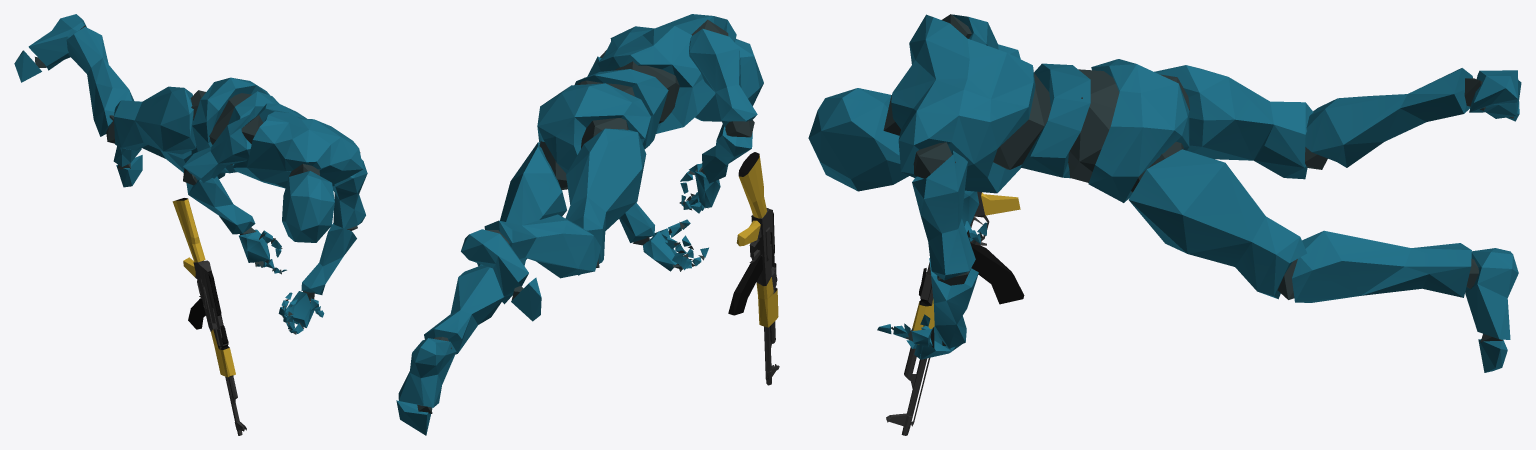
Rendered from EnemyDying_000026.obj.
3 views of the same model, side by side, from view 1: azimuth 30°, elevation 25°; view 2: azimuth 150°, elevation 25°; view 3: azimuth 270°, elevation 25° (orthographic). The views are drawn at different scales.
Visible parts, largest first — view 1: Alpha_Surface, AK-47_Cube, Alpha_Joints; view 2: Alpha_Surface, AK-47_Cube, Alpha_Joints; view 3: Alpha_Surface, Alpha_Joints, AK-47_Cube.
Boxes of the visible parts, x1,y1,x2,y2 form: Alpha_Surface: [14, 14, 367, 333]; AK-47_Cube: [172, 198, 246, 435]; Alpha_Joints: [35, 25, 360, 334]; Alpha_Surface: [396, 14, 763, 435]; AK-47_Cube: [728, 152, 779, 385]; Alpha_Joints: [417, 19, 754, 413]; Alpha_Surface: [808, 14, 1521, 372]; Alpha_Joints: [883, 14, 1513, 360]; AK-47_Cube: [886, 191, 1024, 435].
Size of the model in its own units: 128 by 223 by 322.
